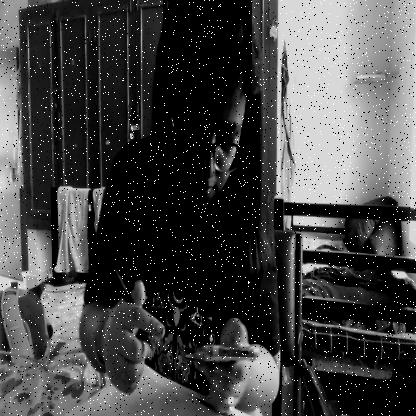Normal: (163, 0, 252, 220)
